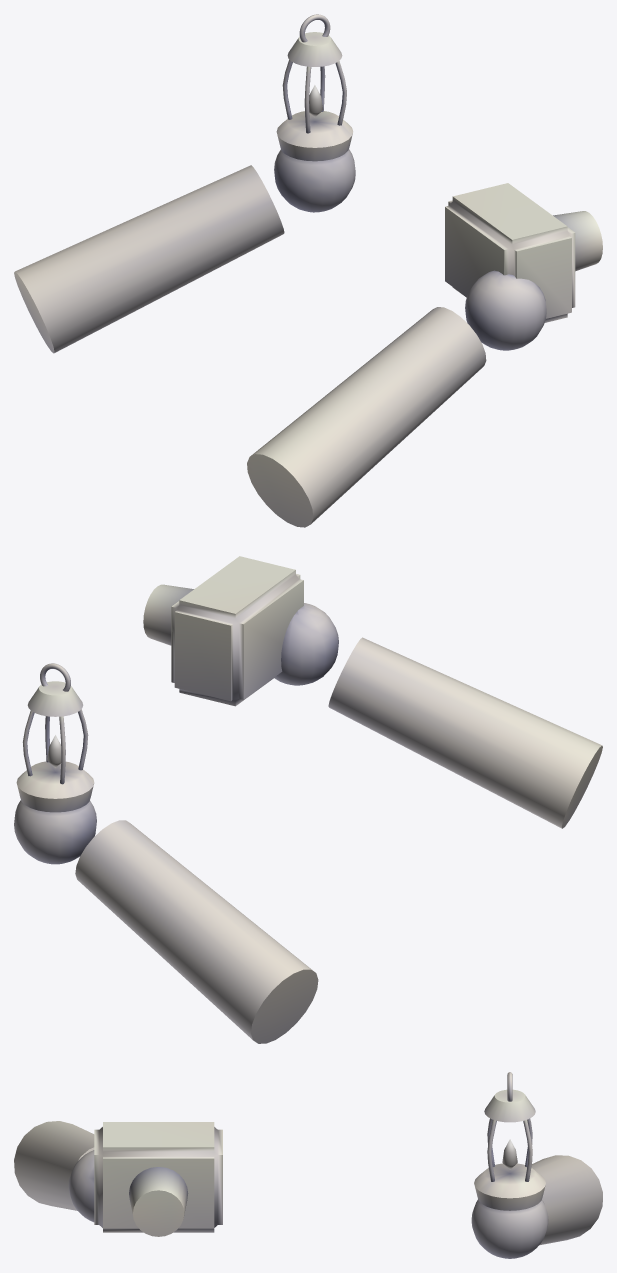
Rendered from hands.glb.
3 views of the same model, one above another, from view 1: azimuth 30°, elevation 25°; view 2: azimuth 150°, elevation 25°; view 3: azimuth 270°, elevation 25° (orthographic). The views are drawn at different scales.
Parts seen in each view (by area): view 1: hands; view 2: hands; view 3: hands, flame.
Part boxes in pixels (box(x1,y1,x2,y2)): hands: box(14, 14, 602, 527); hands: box(14, 556, 602, 1043); hands: box(14, 1072, 602, 1258); flame: box(502, 1139, 517, 1169).
Bounding box in the file's own units: 0.4804 × 0.3556 × 0.6871.
